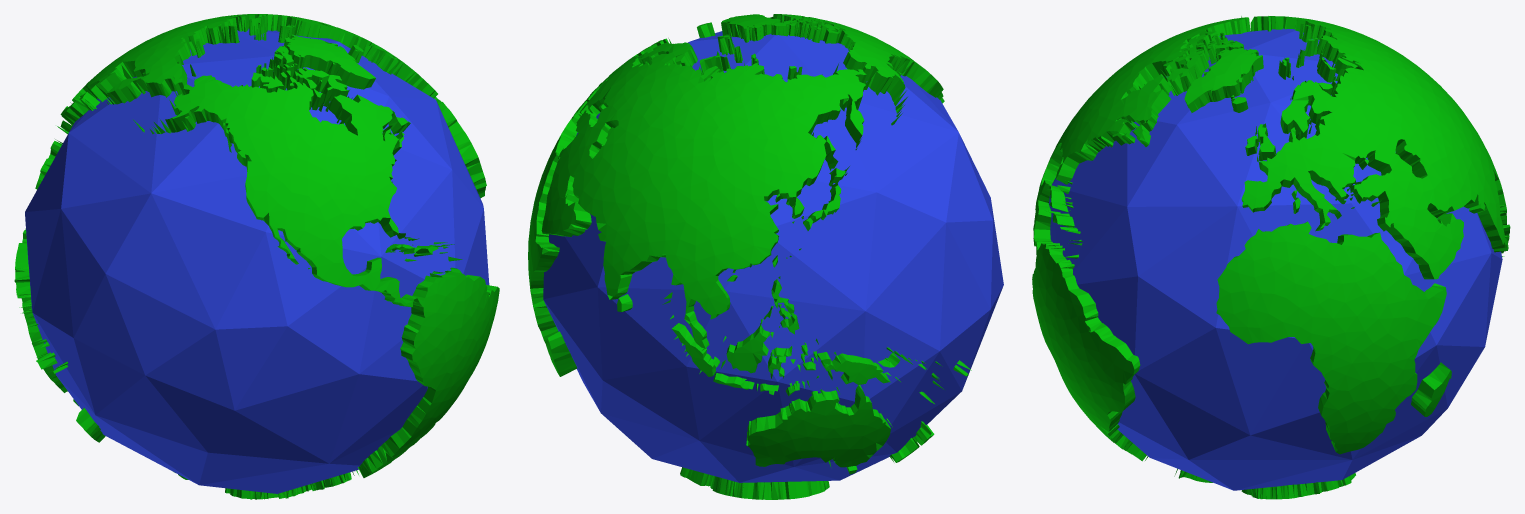
Rendered from earth.glb.
The picture shows the model from 3 angles, left to right: view 1: azimuth 30°, elevation 25°; view 2: azimuth 150°, elevation 25°; view 3: azimuth 270°, elevation 25°; orthographic projection.
Parts seen in each view (by area): view 1: Ocean; view 2: Ocean; view 3: Ocean.
Part boxes in pixels (bbox=[...]): Ocean: bbox=[14, 14, 499, 499]; Ocean: bbox=[528, 14, 1003, 499]; Ocean: bbox=[1032, 16, 1510, 499].
Size of the model in its own units: 3.43 by 3.5 by 3.46.
